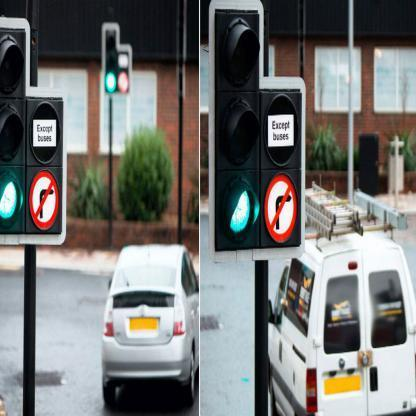Green Light: (208, 0, 264, 254), (0, 18, 29, 243), (101, 22, 119, 94)
